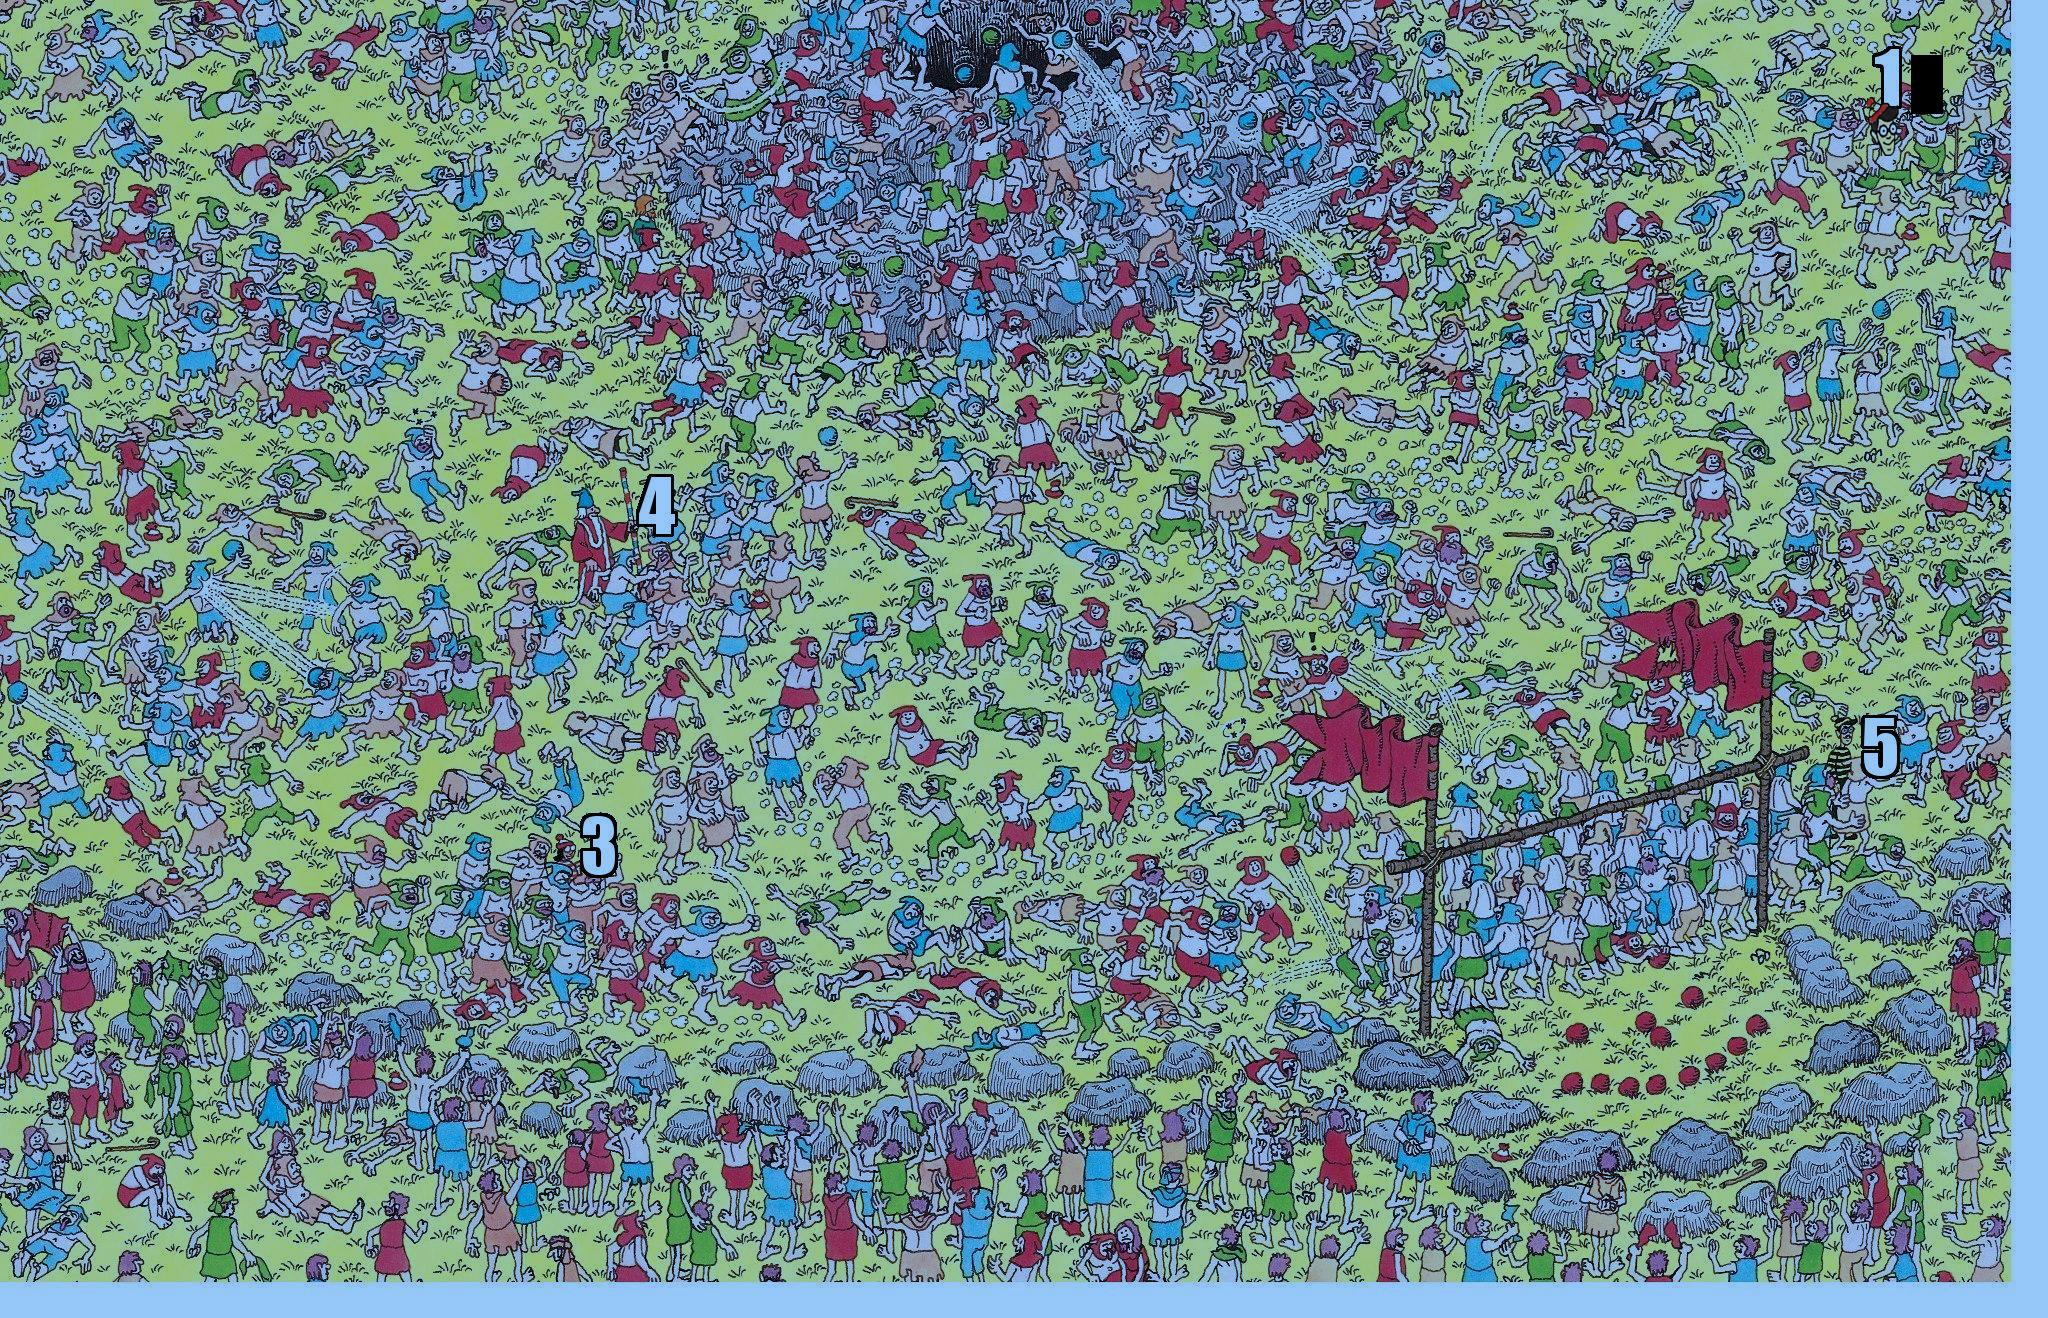waldos: (1867, 97, 1899, 157)
